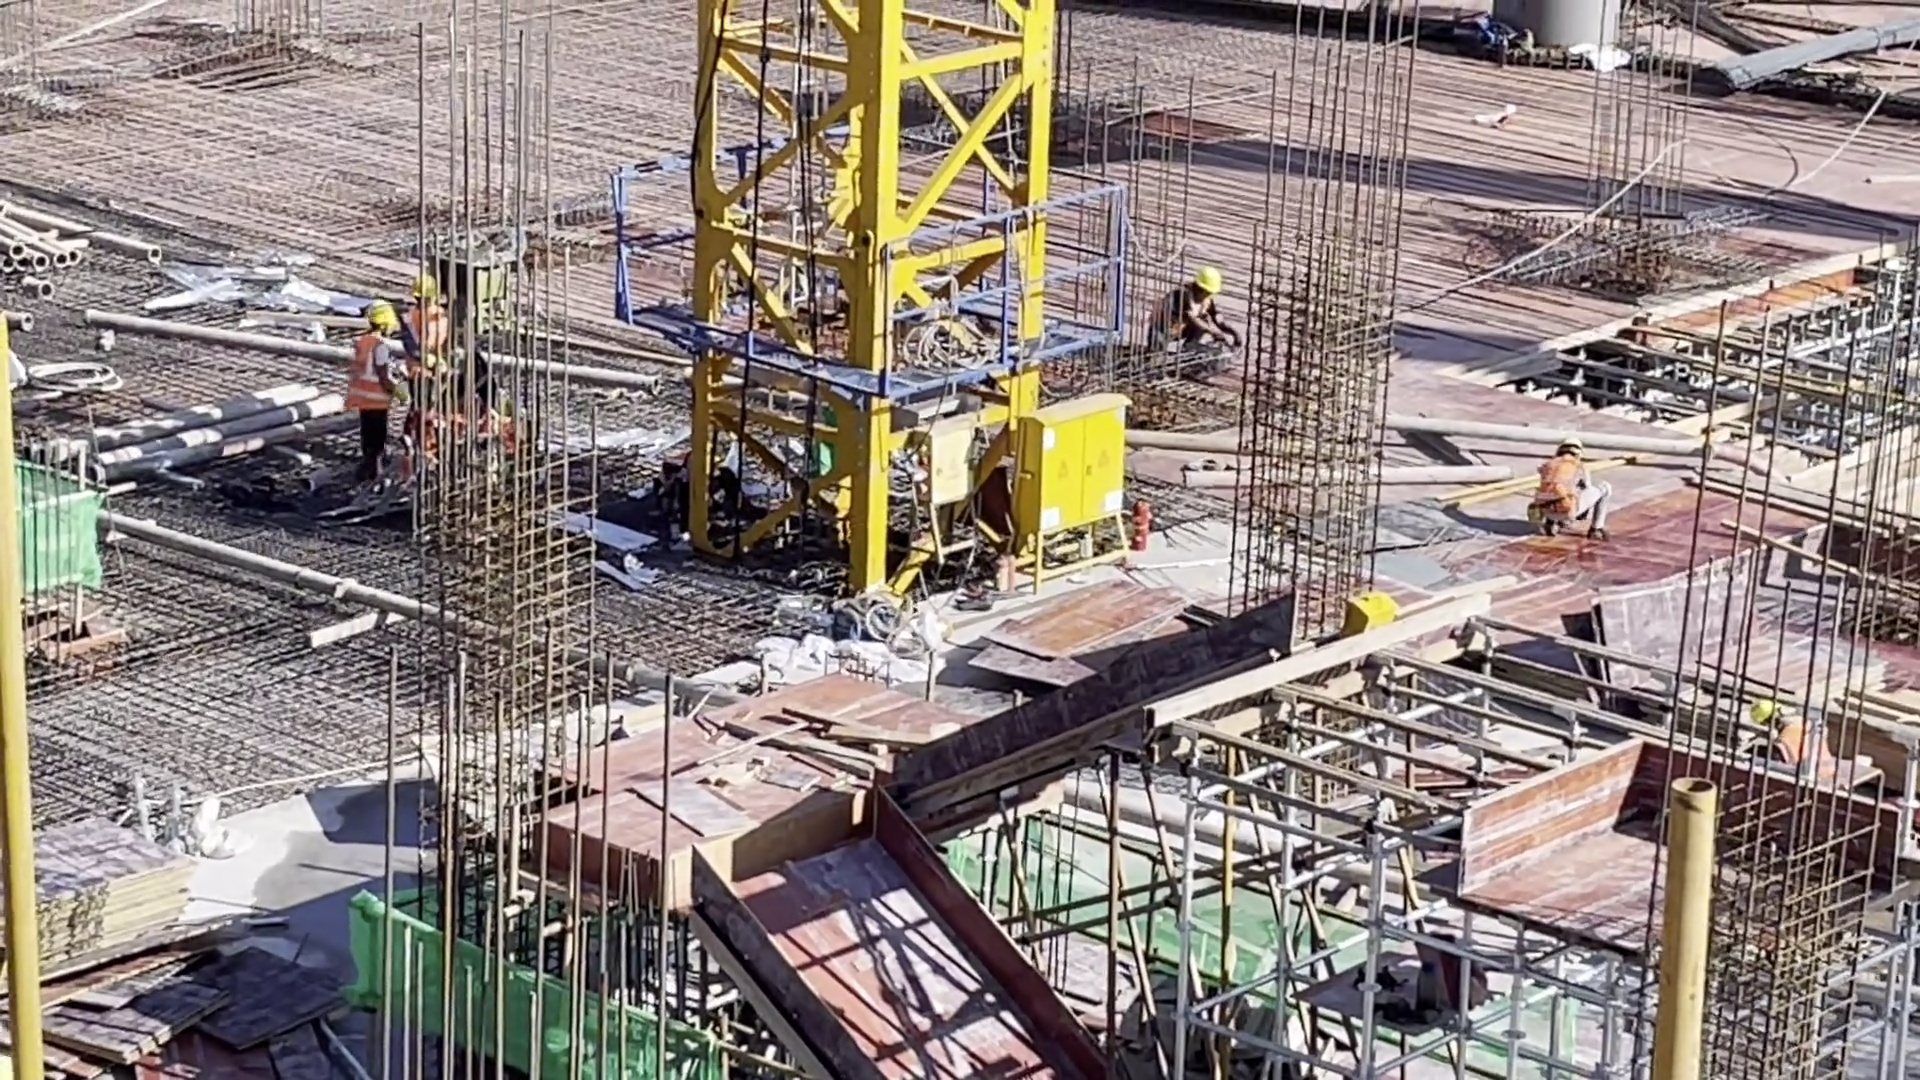helmet: (1188, 261, 1227, 296), (356, 298, 392, 323), (1553, 434, 1585, 456)
person: (348, 299, 399, 488), (1522, 436, 1612, 544), (1143, 262, 1241, 361), (1750, 695, 1849, 787), (396, 271, 442, 429)
vest: (346, 336, 393, 425), (1765, 713, 1832, 766), (1153, 288, 1212, 346), (1541, 460, 1588, 519)
